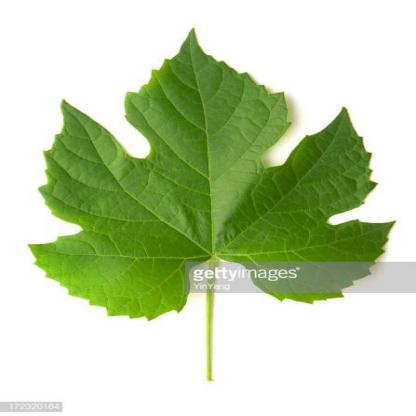grape leaf: (20, 24, 397, 334)
